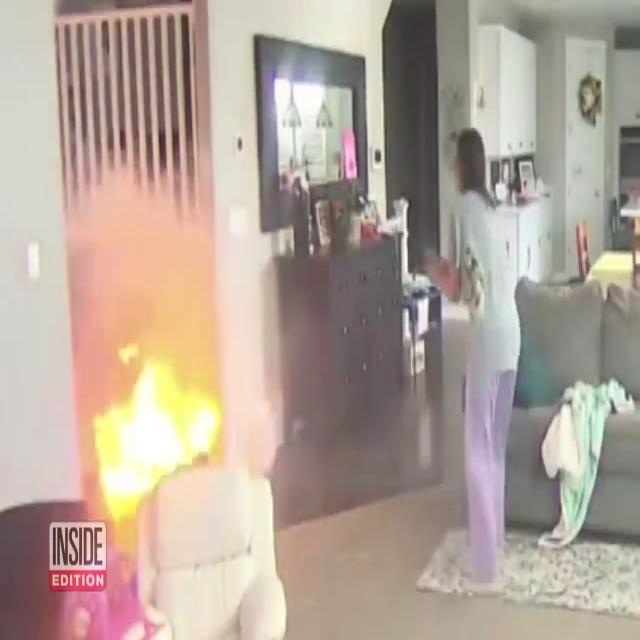Fire: (91, 326, 225, 509)
Smoke: (62, 152, 225, 356)
